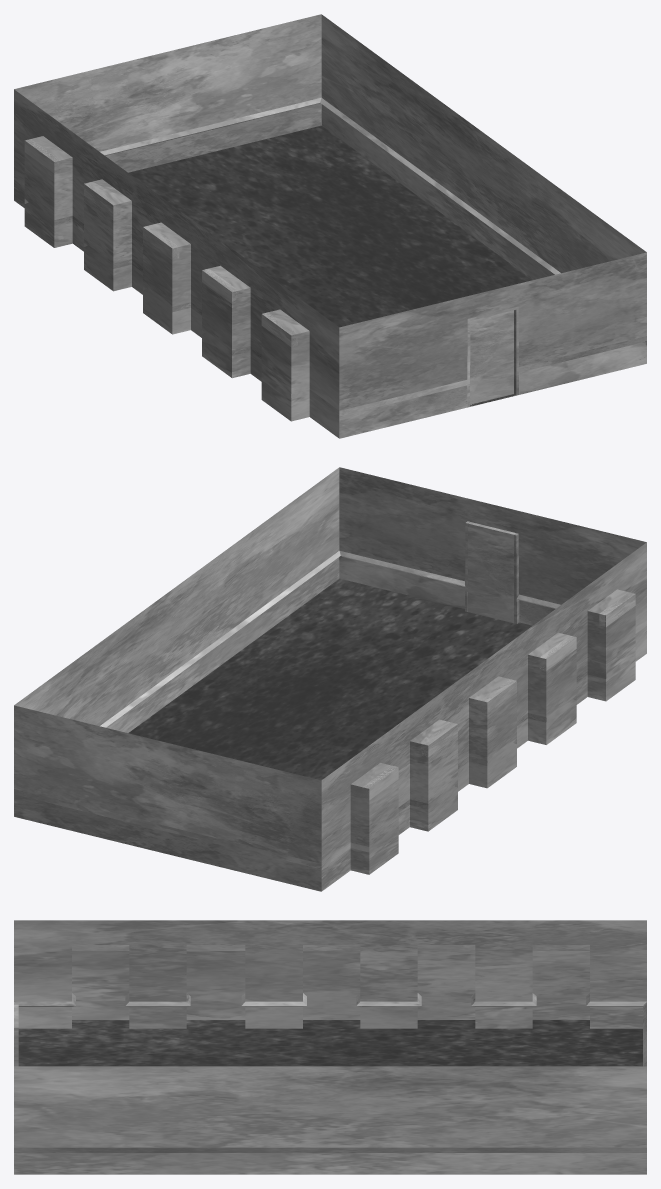
Rendered from Habitacion de Devil soud (2).fbx.
3 renders of one model, top to bottom at view 1: azimuth 30°, elevation 25°; view 2: azimuth 150°, elevation 25°; view 3: azimuth 270°, elevation 25°, orthographic. The views are drawn at different scales.
Parts seen in each view (by area): view 1: Cube; view 2: Cube; view 3: Cube.
Part boxes in pixels (left/top/right/bottom): Cube: left=14, top=14, right=646, bottom=438; Cube: left=14, top=467, right=646, bottom=891; Cube: left=14, top=920, right=646, bottom=1174.
Bounding box in the file's own units: 19081 × 6230 × 32991.
